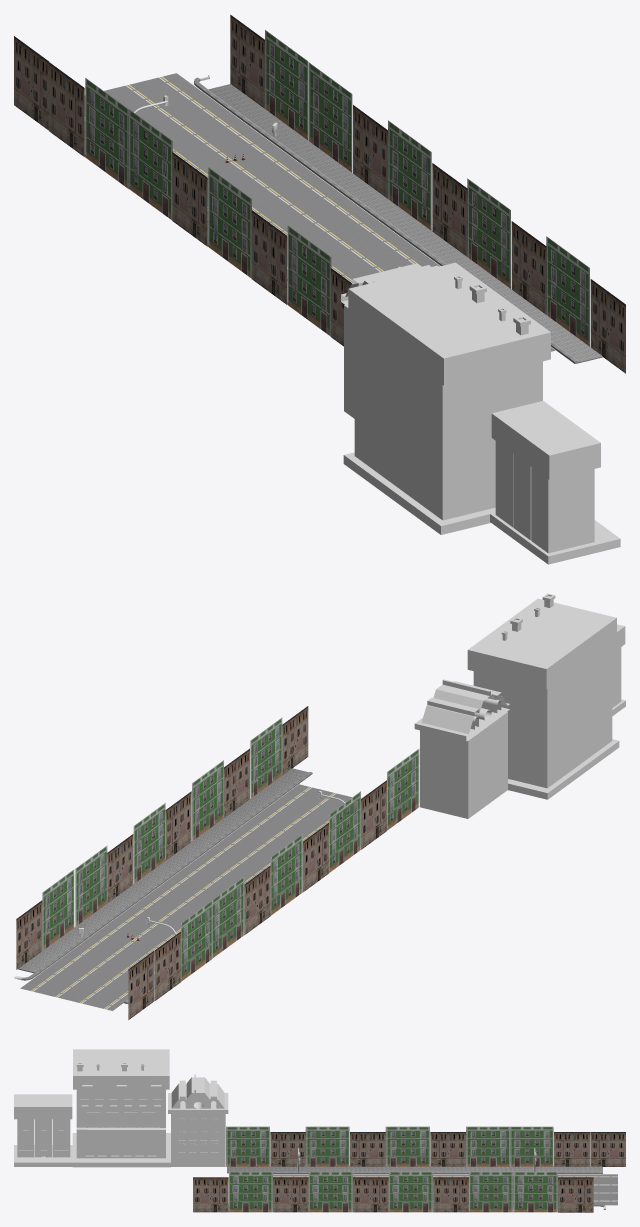
File: Calle 05.FBX
3 views of the same model, one above another, from view 1: azimuth 30°, elevation 25°; view 2: azimuth 150°, elevation 25°; view 3: azimuth 270°, elevation 25° (orthographic). The views are drawn at different scales.
Parts seen in each view (by area): view 1: Rectangle002, Plane001, Rectangle003, ChamferBox002, Rectangle005, Box030, Box004, Box014, Box001, Box016, Box018, Box020 (+20 smaller); view 2: Plane001, Rectangle002, Rectangle003, Circle002, ChamferBox002, Shape002, Box011, Box016, Box020, Box004, Box006, Box010 (+16 smaller); view 3: Rectangle002, Rectangle003, Circle002, ChamferBox004, Shape002, Box004, Box014, Box016, Object057, Box006, Box008, Box010 (+26 smaller).
Part boxes in pixels (x1,y1,x2,y2): Rectangle002: [354, 320, 542, 520]; Plane001: [84, 73, 554, 351]; Rectangle003: [348, 262, 550, 385]; ChamferBox002: [208, 84, 602, 363]; Rectangle005: [491, 401, 600, 479]; Box030: [531, 467, 594, 553]; Box004: [308, 62, 352, 172]; Box014: [287, 225, 331, 336]; Box001: [85, 78, 128, 188]; Box016: [208, 167, 251, 278]; Box018: [129, 109, 172, 220]; Box020: [265, 30, 308, 140]; Plane001: [20, 784, 351, 1010]; Rectangle002: [473, 641, 612, 788]; Rectangle003: [467, 598, 616, 688]; Circle002: [420, 712, 507, 818]; ChamferBox002: [18, 768, 308, 973]; Shape002: [414, 679, 510, 741]; Box011: [387, 749, 419, 830]; Box016: [270, 834, 302, 915]; Box020: [42, 869, 74, 950]; Box004: [75, 846, 107, 926]; Box006: [133, 803, 165, 883]; Box010: [250, 717, 282, 798]; Rectangle002: [76, 1089, 165, 1158]; Rectangle003: [73, 1049, 169, 1089]; Circle002: [171, 1114, 225, 1166]; ChamferBox004: [227, 1166, 602, 1173]; Shape002: [168, 1074, 228, 1113]; Box004: [469, 1172, 513, 1212]; Box014: [305, 1126, 349, 1166]; Box016: [385, 1126, 429, 1166]; Object057: [81, 1100, 160, 1155]; Box006: [389, 1172, 432, 1212]; Box008: [309, 1172, 352, 1212]; Box010: [229, 1172, 272, 1212].
Size of the model in its own units: 2974 by 1766 by 10245.
7 materials, 5 textured.
